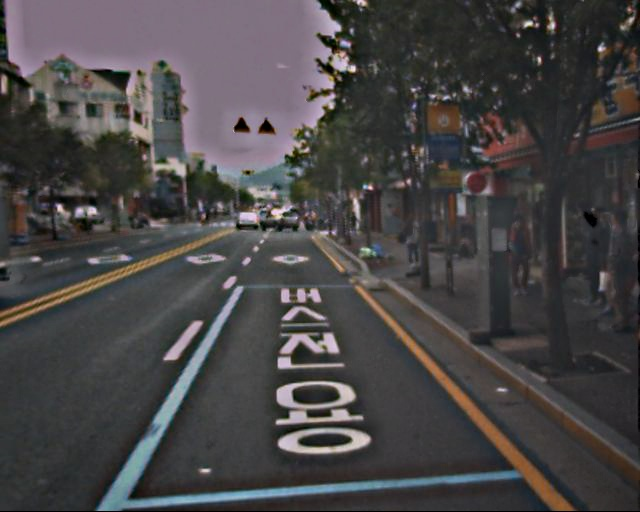person: (569, 202, 640, 317), (502, 216, 536, 299), (401, 212, 425, 270), (456, 217, 474, 262)
